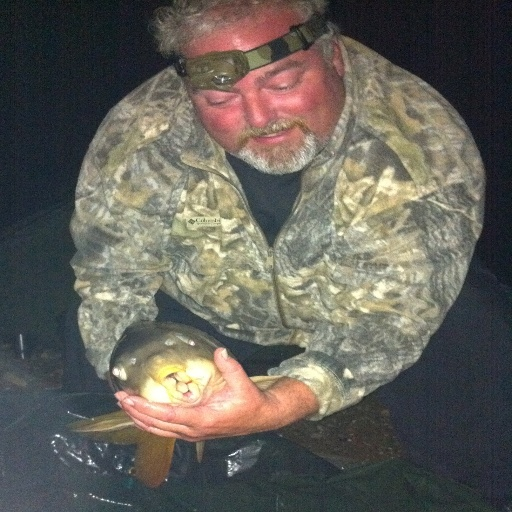hand: (112, 346, 284, 444)
